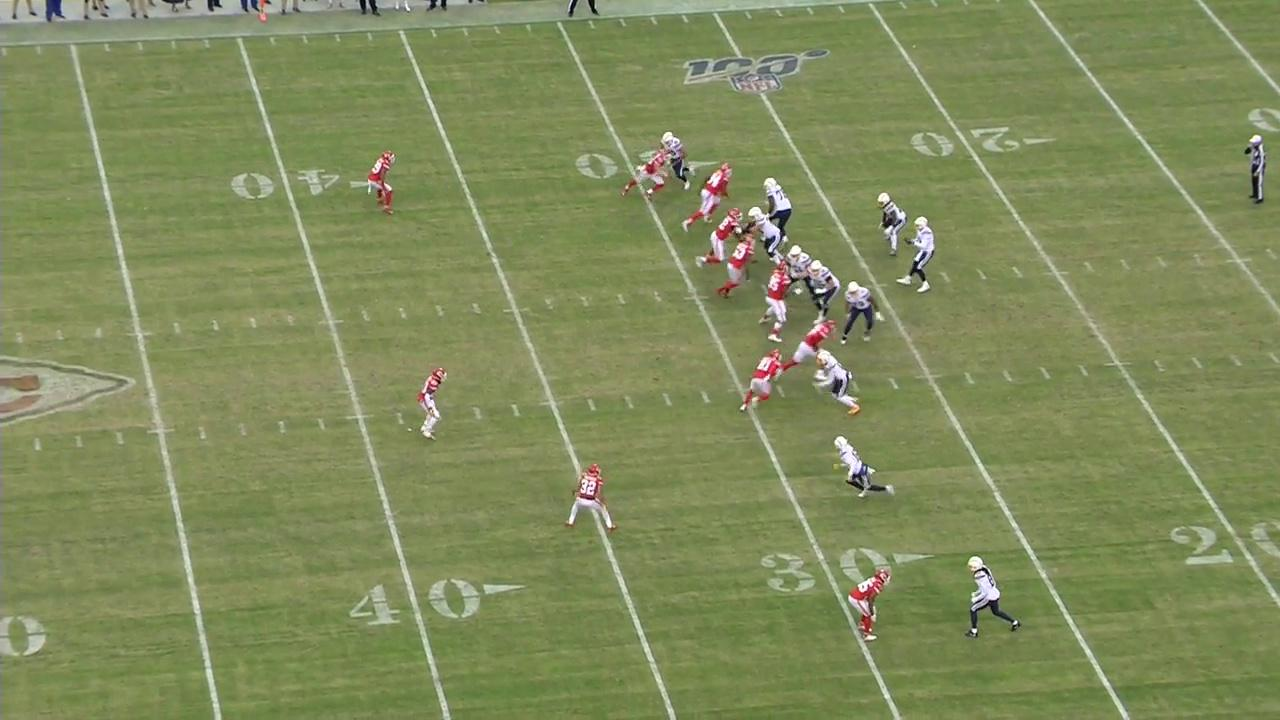player: (961, 554, 1023, 639), (770, 318, 841, 385), (830, 433, 897, 502), (679, 161, 736, 233), (759, 260, 803, 345), (693, 206, 748, 271), (811, 348, 862, 418), (893, 215, 938, 294), (564, 462, 614, 532), (847, 568, 892, 642), (839, 280, 887, 347), (715, 233, 760, 303), (738, 348, 784, 415), (619, 148, 672, 203), (417, 363, 453, 443), (758, 174, 795, 245), (744, 206, 786, 268), (656, 130, 696, 192), (805, 259, 841, 325), (367, 149, 400, 218), (876, 191, 908, 261), (784, 244, 816, 300)
ref: (1242, 133, 1271, 205)
